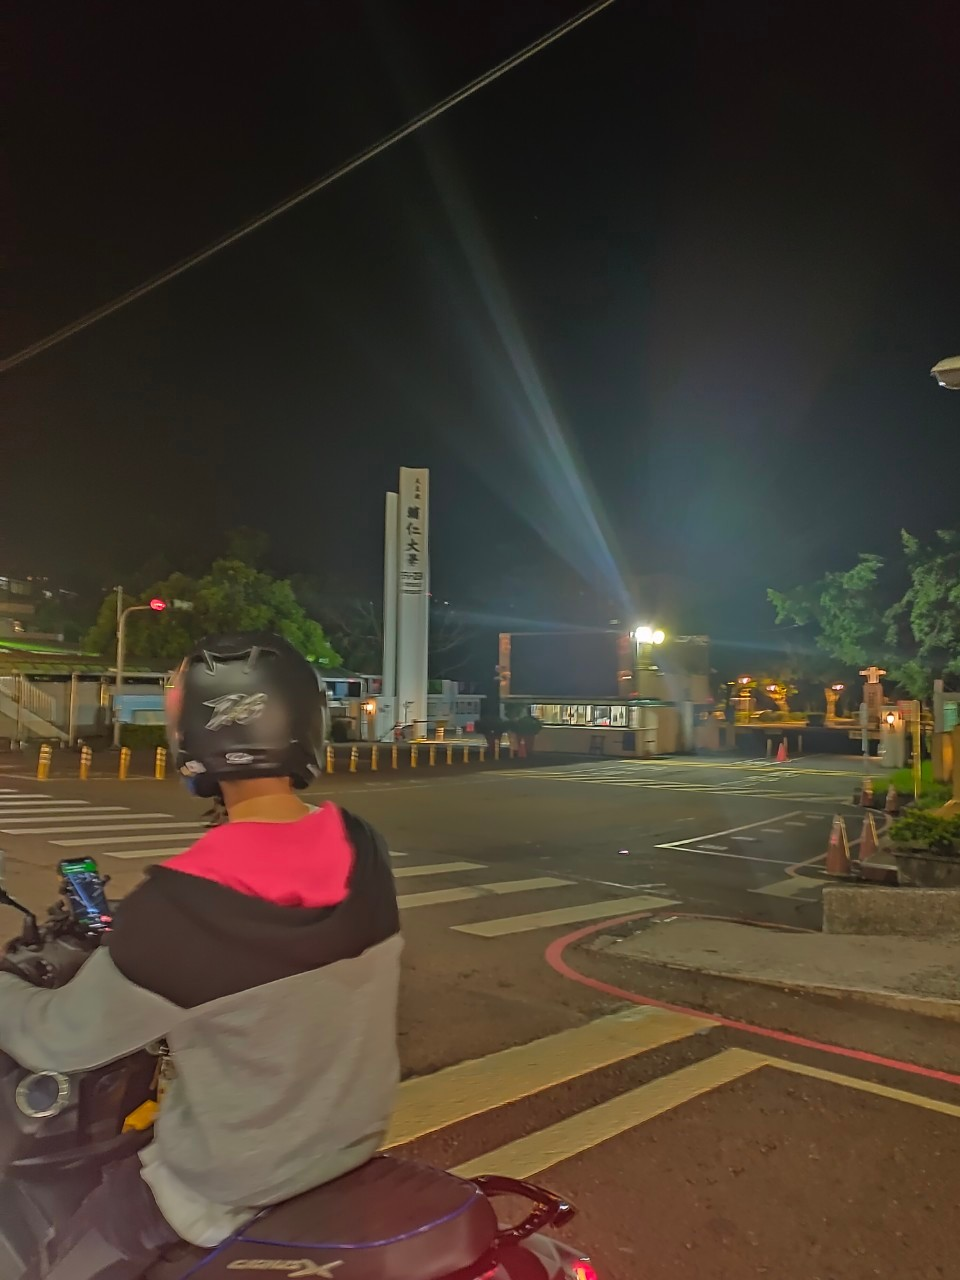people: (111, 627, 401, 1212)
